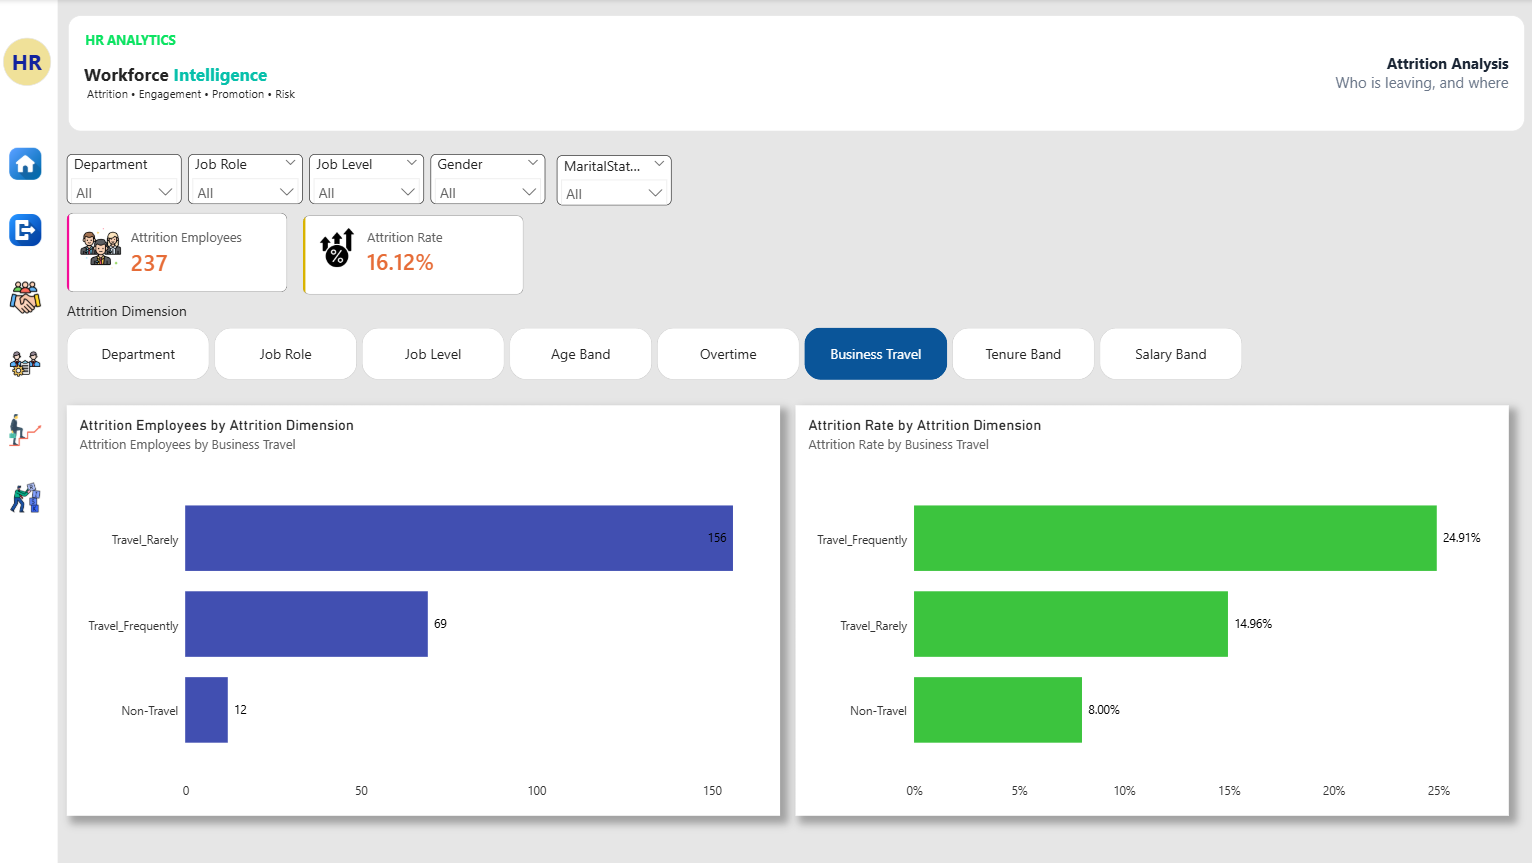

The page's visual inventory and layout, read from the dashboard file:
{"tool":"powerbi","page":{"name":"Page 2","canvas":[1920,1080],"ordinal":2},"visuals":[{"type":"textbox","box":[86.7,20,1816.7,145],"z":0},{"type":"textbox","box":[1631.7,48.3,253.3,91.7],"z":2000},{"type":"textbox","box":[0,0,74.1,1079.3],"z":3000},{"type":"pageNavigator","box":[-0.7,122.1,74.6,50.7],"z":4000},{"type":"pageNavigator","box":[1.5,540.3,74.6,50.7],"z":5000},{"type":"pageNavigator","box":[0,456.7,74.6,50.7],"z":6000},{"type":"pageNavigator","box":[0,373,74.6,50.7],"z":7000},{"type":"pageNavigator","box":[1.5,289.4,74.6,50.7],"z":8000},{"type":"pageNavigator","box":[1.5,205.7,74.6,50.7],"z":9000},{"type":"slicer","fields":{"Values":["HR.Department"]},"box":[86.6,194,143.3,62.7],"z":10000},{"type":"slicer","fields":{"Values":["HR.JobRole"]},"box":[237.6,194,143.3,62.7],"z":11000},{"type":"slicer","fields":{"Values":["HR.JobLevel"]},"box":[388.7,194,143.3,62.7],"z":12000},{"type":"slicer","fields":{"Values":["HR.Gender"]},"box":[539.7,194,143.3,62.7],"z":13000},{"type":"slicer","fields":{"Values":["HR.MaritalStatus"]},"box":[697.5,194.2,143.3,62.7],"z":14000},{"type":"cardVisual","fields":{"Data":["#Measures.Attrition Rate"]},"box":[304.2,267.2,197,83.6],"z":15000},{"type":"cardVisual","fields":{"Data":["#Measures.Attrition Employees"]},"box":[86.6,266.2,197,83.6],"z":16000},{"type":"clusteredBarChart","title":"Attrition by Department","fields":{"Category":["HR.Department"],"Y":["#Measures.Attrition Rate"]},"box":[86.6,380.6,537.3,268.7],"z":17000},{"type":"clusteredBarChart","title":"Attrition by Job Role","fields":{"Category":["HR.JobRole"],"Y":["#Measures.Attrition Rate"]},"box":[682.5,381.2,537.3,268.7],"z":18000},{"type":"clusteredColumnChart","title":"Attrition by Age Band","fields":{"Category":["HR.Age Band"],"Y":["#Measures.Attrition Rate"]},"box":[1289.6,381.2,537.3,268.7],"z":19000},{"type":"clusteredColumnChart","title":"Attrition by Job Level","fields":{"Category":["HR.JobLevel"],"Y":["#Measures.Attrition Rate"]},"box":[84.5,666.5,415.4,269.3],"z":20000},{"type":"clusteredColumnChart","title":"Attrition by Overtime","fields":{"Category":["HR.OverTime"],"Y":["#Measures.Attrition Rate"]},"box":[531.8,666.5,333.2,269.3],"z":21000},{"type":"clusteredColumnChart","title":"Attrition by Business Travel","fields":{"Category":["HR.BusinessTravel"],"Y":["#Measures.Attrition Rate"]},"box":[906.1,666.5,449.7,269.3],"z":22000},{"type":"clusteredColumnChart","title":"Attrition by Tenure band","fields":{"Category":["HR.Tenure Band"],"Y":["#Measures.Attrition Rate"]},"box":[1424.3,666.5,461.1,269.3],"z":23000},{"type":"slicer","fields":{"Values":["Attrition Dimension.Attrition Dimension"]},"box":[103.4,566.1,1817,150],"z":24000}]}

Visuals, with their boxes on the page's 1920x1080 design canvas (x1, y1, x2, y2). These are canvas units, not pixel positions in the 1532x863 screenshot, which may show the page scaled, cropped or inside an application window:
textbox: rect(87, 20, 1903, 165)
textbox: rect(1632, 48, 1885, 140)
textbox: rect(0, 0, 74, 1079)
pageNavigator: rect(-1, 122, 74, 173)
pageNavigator: rect(2, 540, 76, 591)
pageNavigator: rect(0, 457, 75, 507)
pageNavigator: rect(0, 373, 75, 424)
pageNavigator: rect(2, 289, 76, 340)
pageNavigator: rect(2, 206, 76, 256)
slicer - HR.Department: rect(87, 194, 230, 257)
slicer - HR.JobRole: rect(238, 194, 381, 257)
slicer - HR.JobLevel: rect(389, 194, 532, 257)
slicer - HR.Gender: rect(540, 194, 683, 257)
slicer - HR.MaritalStatus: rect(698, 194, 841, 257)
cardVisual - #Measures.Attrition Rate: rect(304, 267, 501, 351)
cardVisual - #Measures.Attrition Employees: rect(87, 266, 284, 350)
"Attrition by Department" clusteredBarChart: rect(87, 381, 624, 649)
"Attrition by Job Role" clusteredBarChart: rect(682, 381, 1220, 650)
"Attrition by Age Band" clusteredColumnChart: rect(1290, 381, 1827, 650)
"Attrition by Job Level" clusteredColumnChart: rect(84, 666, 500, 936)
"Attrition by Overtime" clusteredColumnChart: rect(532, 666, 865, 936)
"Attrition by Business Travel" clusteredColumnChart: rect(906, 666, 1356, 936)
"Attrition by Tenure band" clusteredColumnChart: rect(1424, 666, 1885, 936)
slicer - Attrition Dimension.Attrition Dimension: rect(103, 566, 1920, 716)
